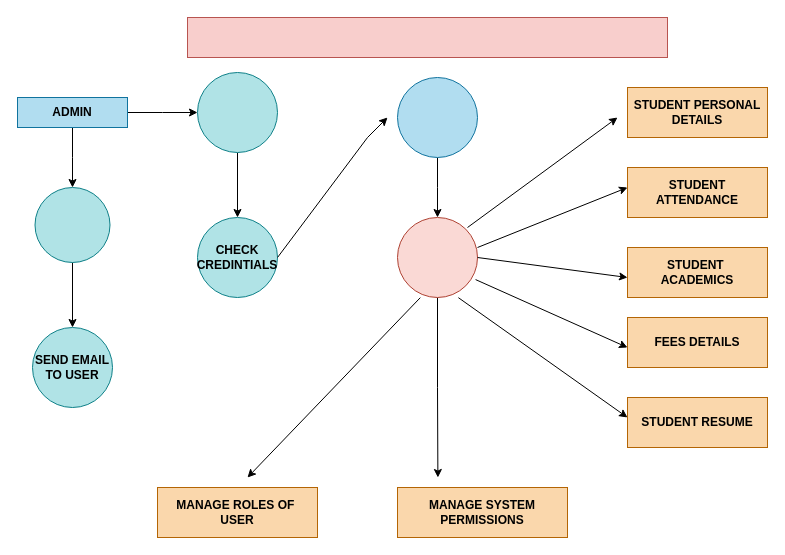
Image size: 785x555. Some labels were removed from this diagram. Here are the shapes that lost their labels. From the top down, the box of each, then its label:
(186, 16, 668, 58): STUDENT INFORMATION SYSTEM
(196, 72, 278, 152): LOGIN
(396, 76, 478, 158): CHECKS ROLES OF ACCESS
(34, 186, 110, 262): FOREGET PASSWORD
(396, 216, 478, 298): MANAGE MODULES
